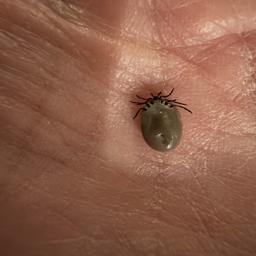Ixodes scapularis: (128, 94, 192, 151)
